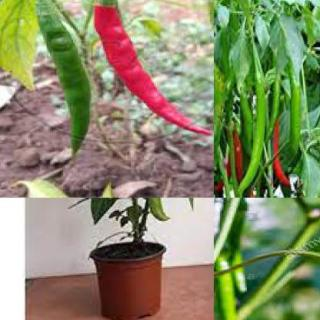green_chilli: (20, 0, 95, 159), (235, 76, 268, 197), (214, 256, 249, 319), (231, 204, 251, 293), (285, 82, 303, 152), (265, 80, 284, 144), (239, 92, 256, 160), (143, 198, 175, 223)
